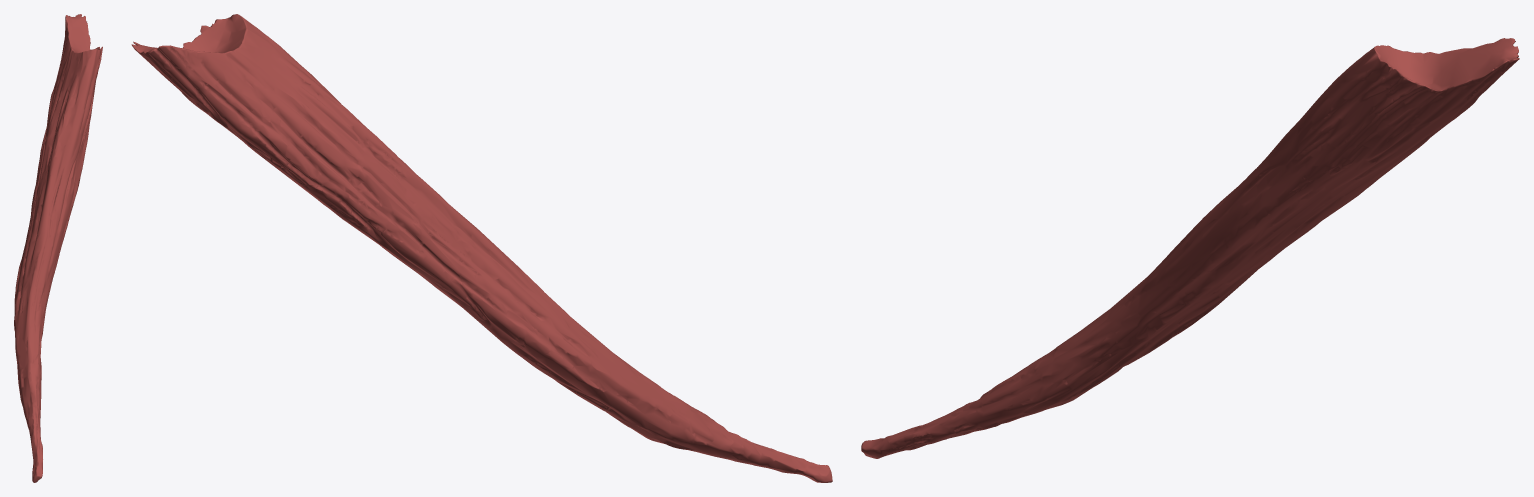
File: FMA46307.glb
3 renders of one model, left to right at view 1: azimuth 30°, elevation 25°; view 2: azimuth 150°, elevation 25°; view 3: azimuth 270°, elevation 25°, orthographic. The views are drawn at different scales.
Parts seen in each view (by area): view 1: FMA46307; view 2: FMA46307; view 3: FMA46307.
Boxes of the visible parts, x1=… form: FMA46307: x1=14, y1=14, x2=102, y2=482; FMA46307: x1=131, y1=14, x2=832, y2=482; FMA46307: x1=861, y1=38, x2=1519, y2=458.
Bounding box in the file's own units: 0.0454 × 0.0619 × 0.0611.
